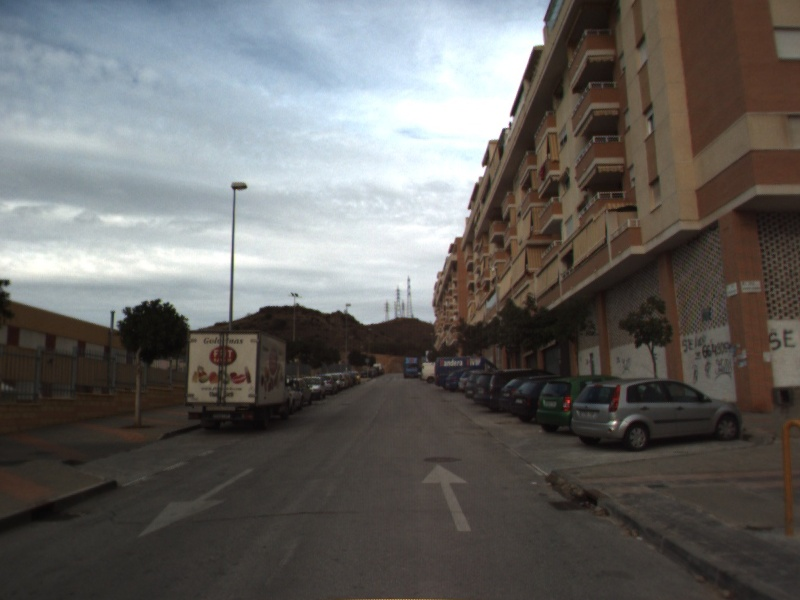STRAIGHT: (419, 461, 474, 533)
